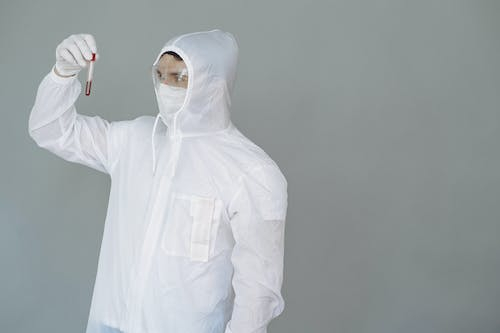blood: (84, 80, 93, 97)
